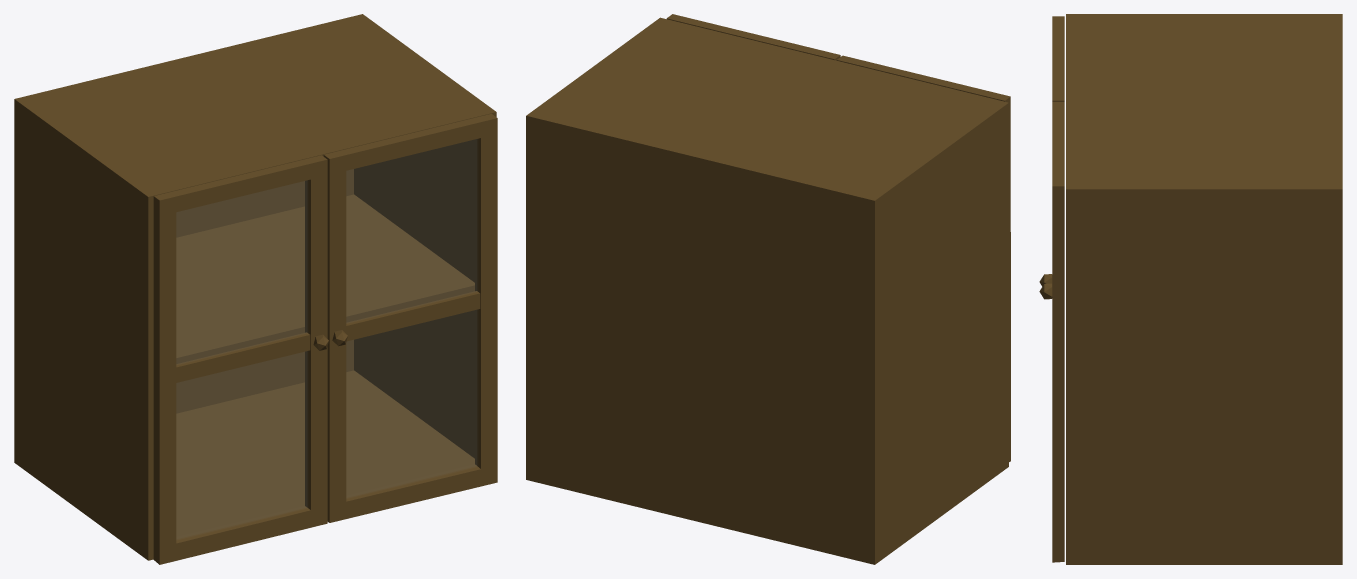
Rendered from cupboard_closed.fbx.
3 views of the same model, side by side, from view 1: azimuth 30°, elevation 25°; view 2: azimuth 150°, elevation 25°; view 3: azimuth 270°, elevation 25° (orthographic). The views are drawn at different scales.
Parts seen in each view (by area): view 1: cupboard, door_l, shelf, door_r; view 2: cupboard, door_l, door_r; view 3: cupboard, door_r, door_l.
Part boxes in pixels (<box>): cupboard: <box>14,14,496,560</box>; door_l: <box>153,155,328,564</box>; shelf: <box>176,194,474,363</box>; door_r: <box>323,114,497,522</box>; cupboard: <box>526,17,1008,564</box>; door_l: <box>836,55,1010,461</box>; door_r: <box>666,14,840,60</box>; cupboard: <box>1066,14,1342,564</box>; door_r: <box>1039,102,1064,562</box>; door_l: <box>1039,16,1064,286</box>.
Size of the model in its own units: 599 by 599 by 437.
